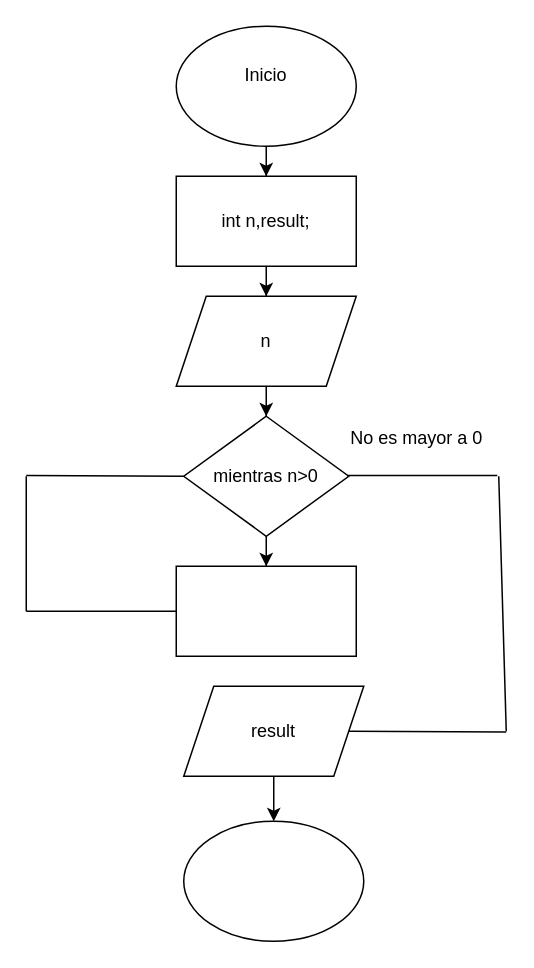
The diagram is 534 pixels wide and 968 high, and some of its shapes have lost their labels. The box of each missing label's shape, as (x1, y1, x2, y2) in pixels:
Fin: (182, 820, 364, 941)
result+= n%10 n/=10;: (175, 565, 356, 656)
